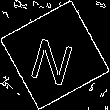N_N: (29, 25, 81, 85)
